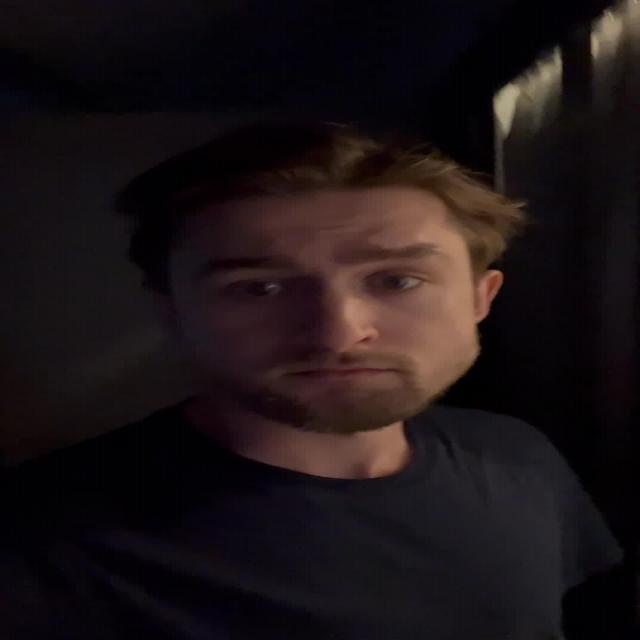earlobe: (152, 292, 186, 348), (471, 270, 505, 324)
